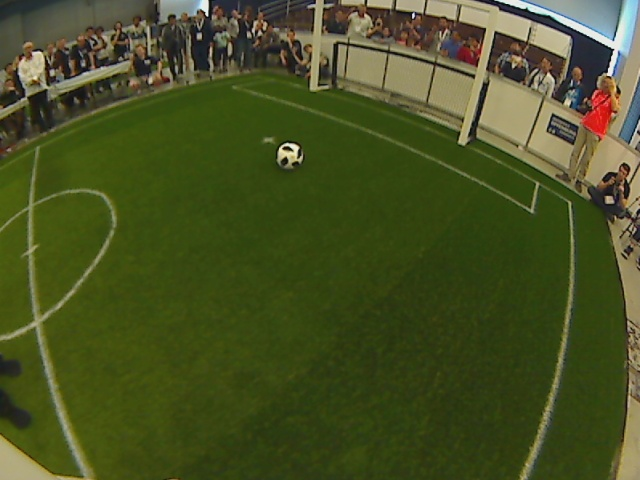ball: (274, 140, 305, 169)
